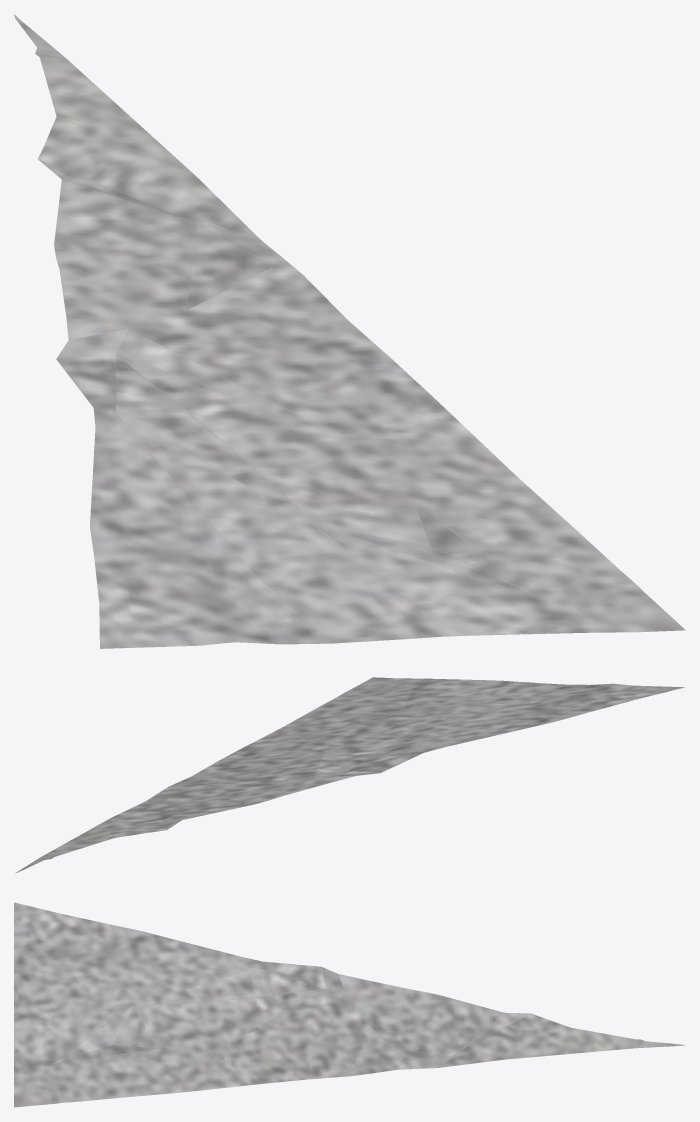
The picture shows the model from 3 angles, top to bottom: view 1: azimuth 30°, elevation 25°; view 2: azimuth 150°, elevation 25°; view 3: azimuth 270°, elevation 25°; orthographic projection. The views are drawn at different scales.
Bounding box in the file's own units: 0.6923 × 0.1405 × 1.38.
1 material, 1 textured.
